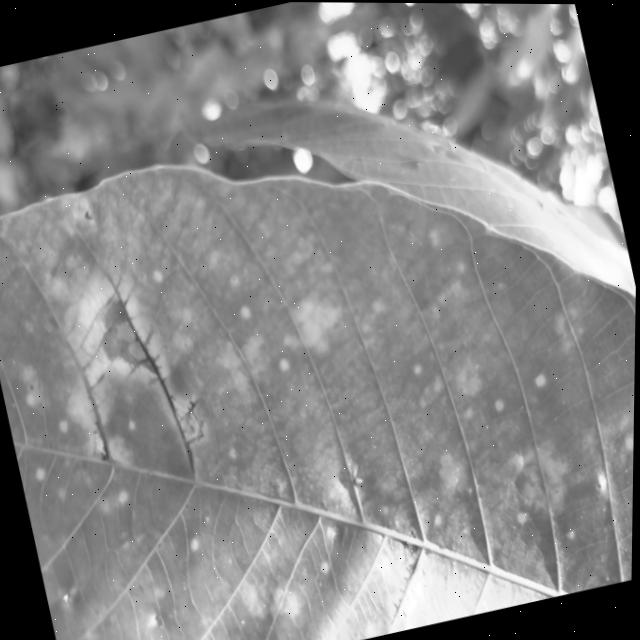Corynespora: (139, 332, 198, 474), (381, 554, 434, 621)
Leaf-Blight: (95, 292, 157, 380), (395, 568, 433, 617), (172, 393, 206, 441)
